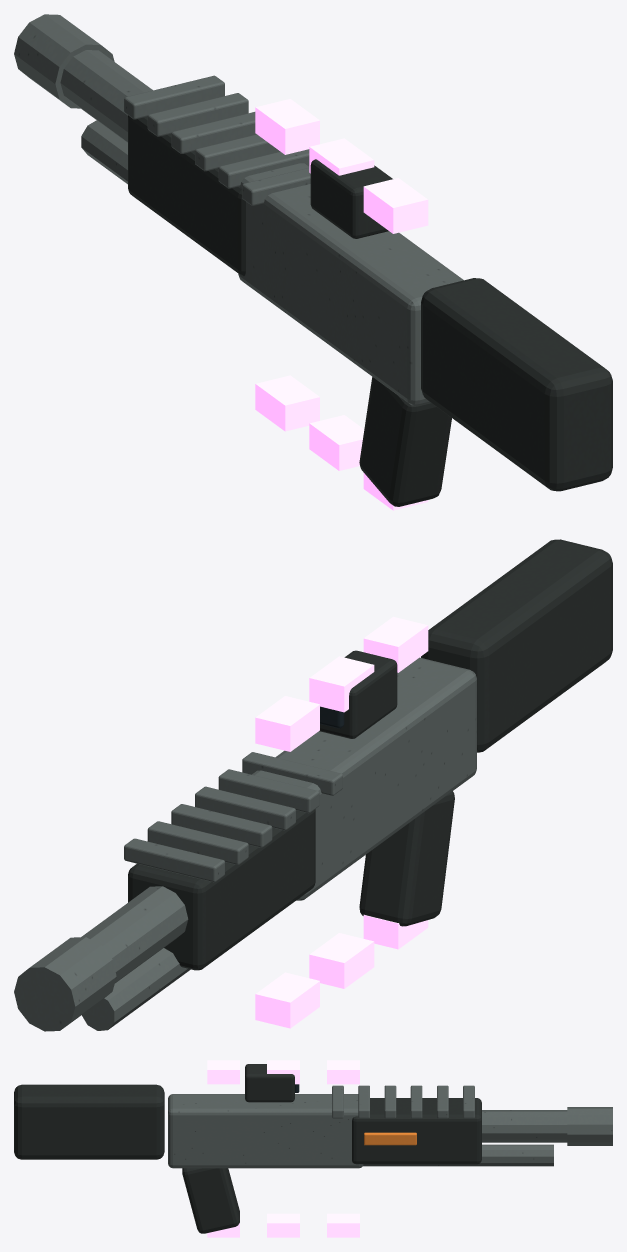
Rendered from shotgun_3.glb.
3 views of the same model, one above another, from view 1: azimuth 30°, elevation 25°; view 2: azimuth 150°, elevation 25°; view 3: azimuth 270°, elevation 25° (orthographic). The views are drawn at different scales.
Parts seen in each view (by area): view 1: Weapon_shotgun, GRADE_3_RAIL_0_1, GRADE_3_RAIL_2_-1, GRADE_3_RAIL_2_1, GRADE_3_RAIL_1_-1, GRADE_3_RAIL_1_1; view 2: Weapon_shotgun, GRADE_3_RAIL_1_-1, GRADE_3_RAIL_2_-1, GRADE_3_RAIL_2_1, GRADE_3_RAIL_0_1, GRADE_3_RAIL_1_1, GRADE_3_RAIL_0_-1; view 3: Weapon_shotgun, GRADE_3_RAIL_0_1, GRADE_3_RAIL_1_-1, GRADE_3_RAIL_2_1, GRADE_3_RAIL_2_-1, GRADE_3_RAIL_1_1, GRADE_3_RAIL_0_-1.
Boxes of the visible parts, <box> form: Weapon_shotgun: <box>14,14,612,506</box>; GRADE_3_RAIL_0_1: <box>363,178,428,233</box>; GRADE_3_RAIL_2_-1: <box>255,375,319,431</box>; GRADE_3_RAIL_2_1: <box>255,99,319,154</box>; GRADE_3_RAIL_1_-1: <box>309,415,364,470</box>; GRADE_3_RAIL_1_1: <box>309,138,374,175</box>; Weapon_shotgun: <box>14,539,612,1031</box>; GRADE_3_RAIL_1_-1: <box>309,933,374,988</box>; GRADE_3_RAIL_2_-1: <box>255,972,319,1028</box>; GRADE_3_RAIL_2_1: <box>255,696,319,751</box>; GRADE_3_RAIL_0_1: <box>363,616,428,672</box>; GRADE_3_RAIL_1_1: <box>309,656,374,712</box>; GRADE_3_RAIL_0_-1: <box>363,914,428,949</box>; Weapon_shotgun: <box>14,1064,612,1233</box>; GRADE_3_RAIL_0_1: <box>207,1060,239,1084</box>; GRADE_3_RAIL_1_-1: <box>267,1213,299,1237</box>; GRADE_3_RAIL_2_1: <box>327,1060,359,1084</box>; GRADE_3_RAIL_2_-1: <box>327,1213,359,1237</box>; GRADE_3_RAIL_1_1: <box>267,1060,299,1084</box>; GRADE_3_RAIL_0_-1: <box>207,1223,239,1237</box>.
Size of the model in its own units: 0.09 by 0.2826 by 0.915.
Materials: 5 (4 with a texture image).
